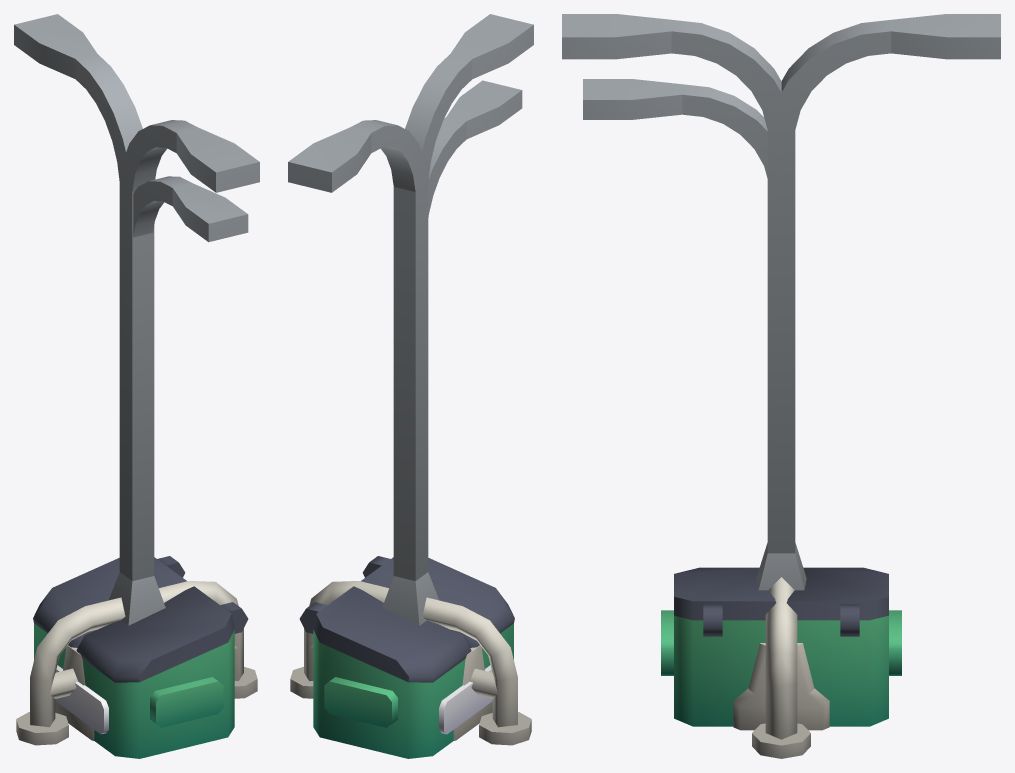
Rendered from street-props.glb.
The picture shows the model from 3 angles, left to right: view 1: azimuth 30°, elevation 25°; view 2: azimuth 150°, elevation 25°; view 3: azimuth 270°, elevation 25°; orthographic projection. The views are drawn at different scales.
Parts seen in each view (by area): view 1: lampDouble, dumpster, fence, lamp, barrier; view 2: lampDouble, dumpster, fence, lamp, barrier; view 3: lampDouble, dumpster, lamp, fence, barrier.
Boxes of the visible parts, x1=… form: lampDouble: x1=14, y1=14, x2=259, y2=625; dumpster: x1=33, y1=556, x2=248, y2=758; fence: x1=16, y1=581, x2=257, y2=745; lamp: x1=133, y1=176, x2=248, y2=242; barrier: x1=55, y1=645, x2=94, y2=740; lampDouble: x1=288, y1=14, x2=533, y2=625; dumpster: x1=299, y1=556, x2=514, y2=758; fence: x1=290, y1=581, x2=531, y2=745; lamp: x1=428, y1=80, x2=522, y2=217; barrier: x1=453, y1=645, x2=492, y2=740; lampDouble: x1=562, y1=14, x2=1000, y2=590; dumpster: x1=661, y1=567, x2=901, y2=726; lamp: x1=583, y1=79, x2=767, y2=178; fence: x1=752, y1=577, x2=810, y2=758; barrier: x1=733, y1=643, x2=829, y2=730.
Size of the model in its own units: 3.36 by 8.4 by 4.98.
